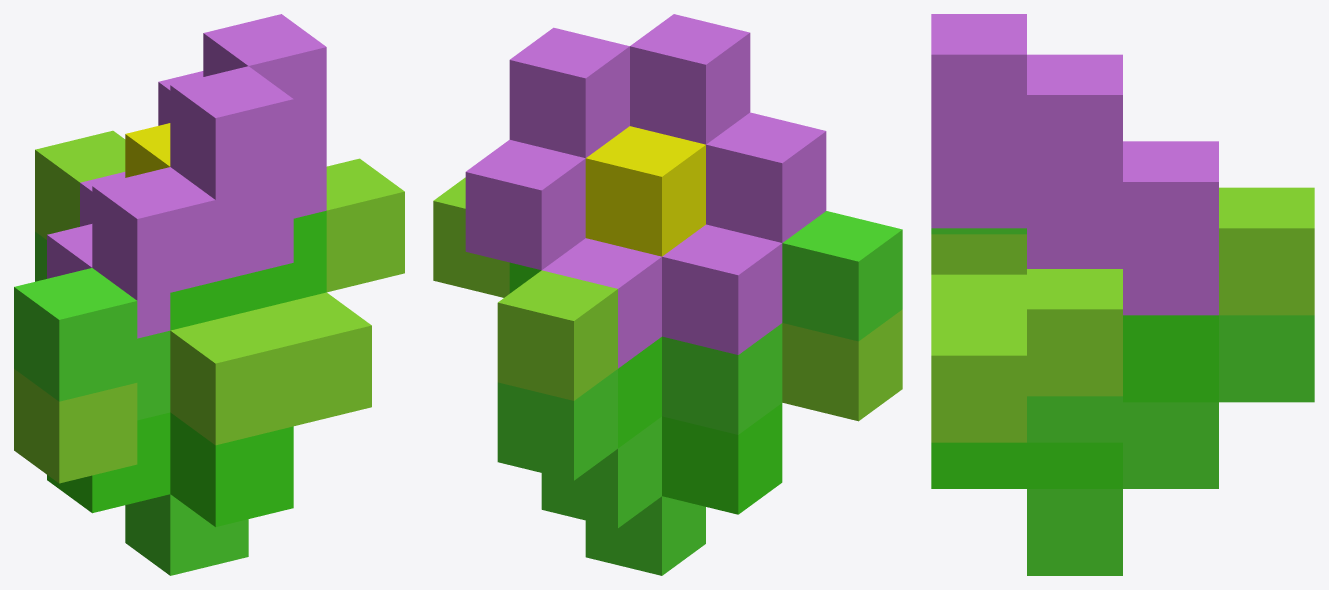
The model's file is tile-47.obj.
3 views of the same model, side by side, from view 1: azimuth 30°, elevation 25°; view 2: azimuth 150°, elevation 25°; view 3: azimuth 270°, elevation 25° (orthographic). The views are drawn at different scales.
Bounding box in the file's own units: 0.5 × 0.6 × 0.4.
1 material, 1 textured.
